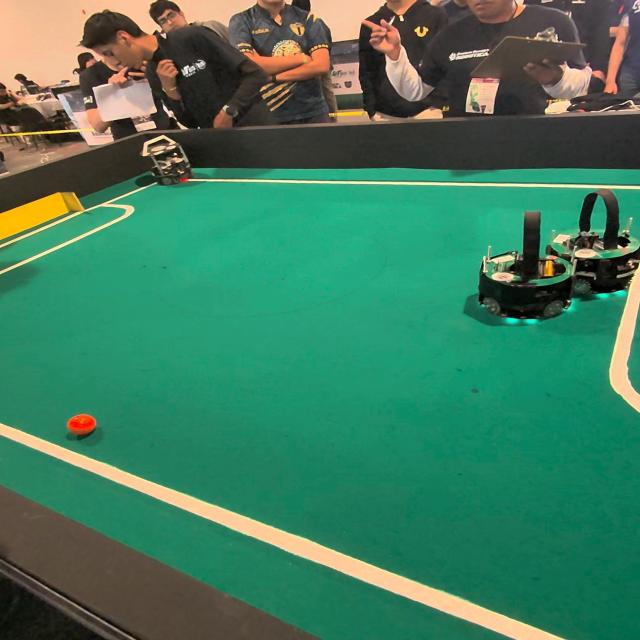Robot: (472, 229, 570, 332), (553, 181, 637, 299), (140, 130, 198, 188)
pelota: (66, 415, 95, 441)
